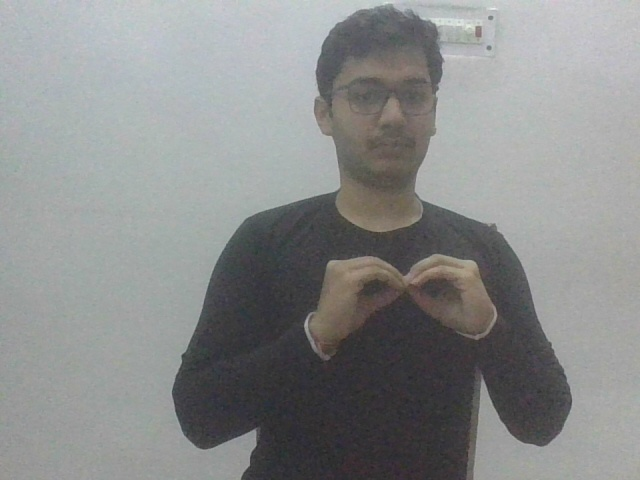B: (313, 252, 497, 340)
